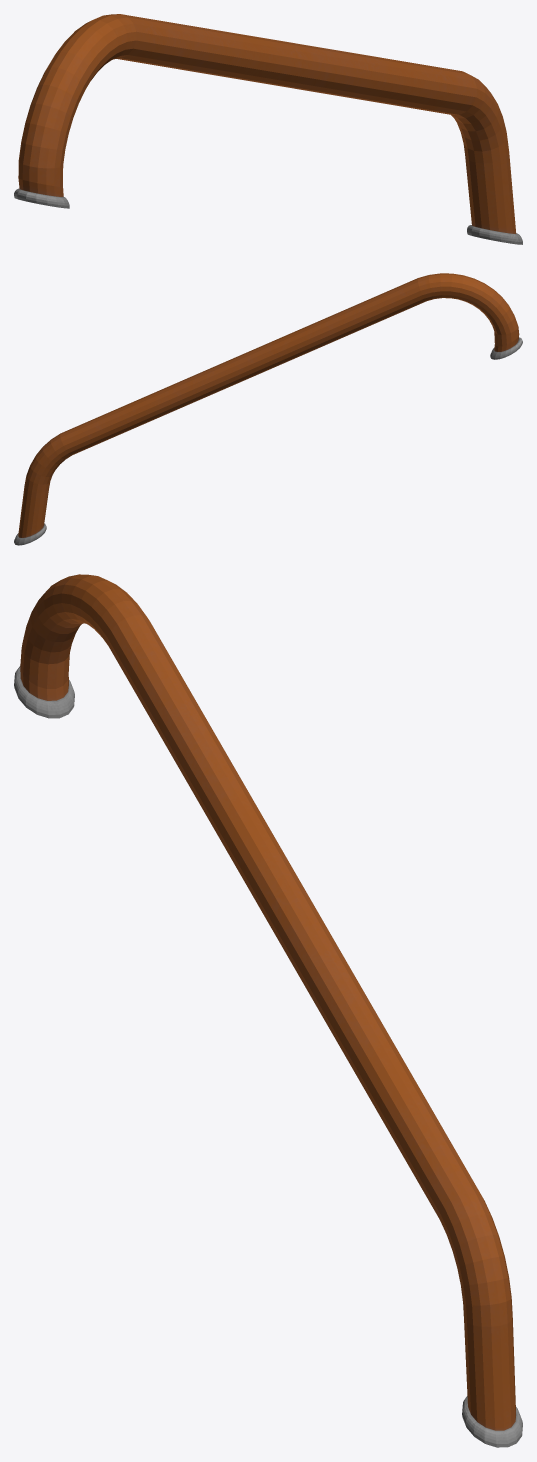
The model's file is SM_074_Guardrail_01_1.fbx.
The picture shows the model from 3 angles, top to bottom: view 1: azimuth 30°, elevation 25°; view 2: azimuth 150°, elevation 25°; view 3: azimuth 270°, elevation 25°; orthographic projection. The views are drawn at different scales.
Visible parts, largest first — view 1: SM_074_Guardrail_01_1; view 2: SM_074_Guardrail_01_1; view 3: SM_074_Guardrail_01_1.
Part boxes in pixels (x1,y1,x2,y2): SM_074_Guardrail_01_1: (14, 14, 522, 244); SM_074_Guardrail_01_1: (14, 273, 522, 545); SM_074_Guardrail_01_1: (14, 574, 522, 1447).
Bounding box in the file's own units: 105 × 59.6 × 70.14.
1 material, 1 textured.
